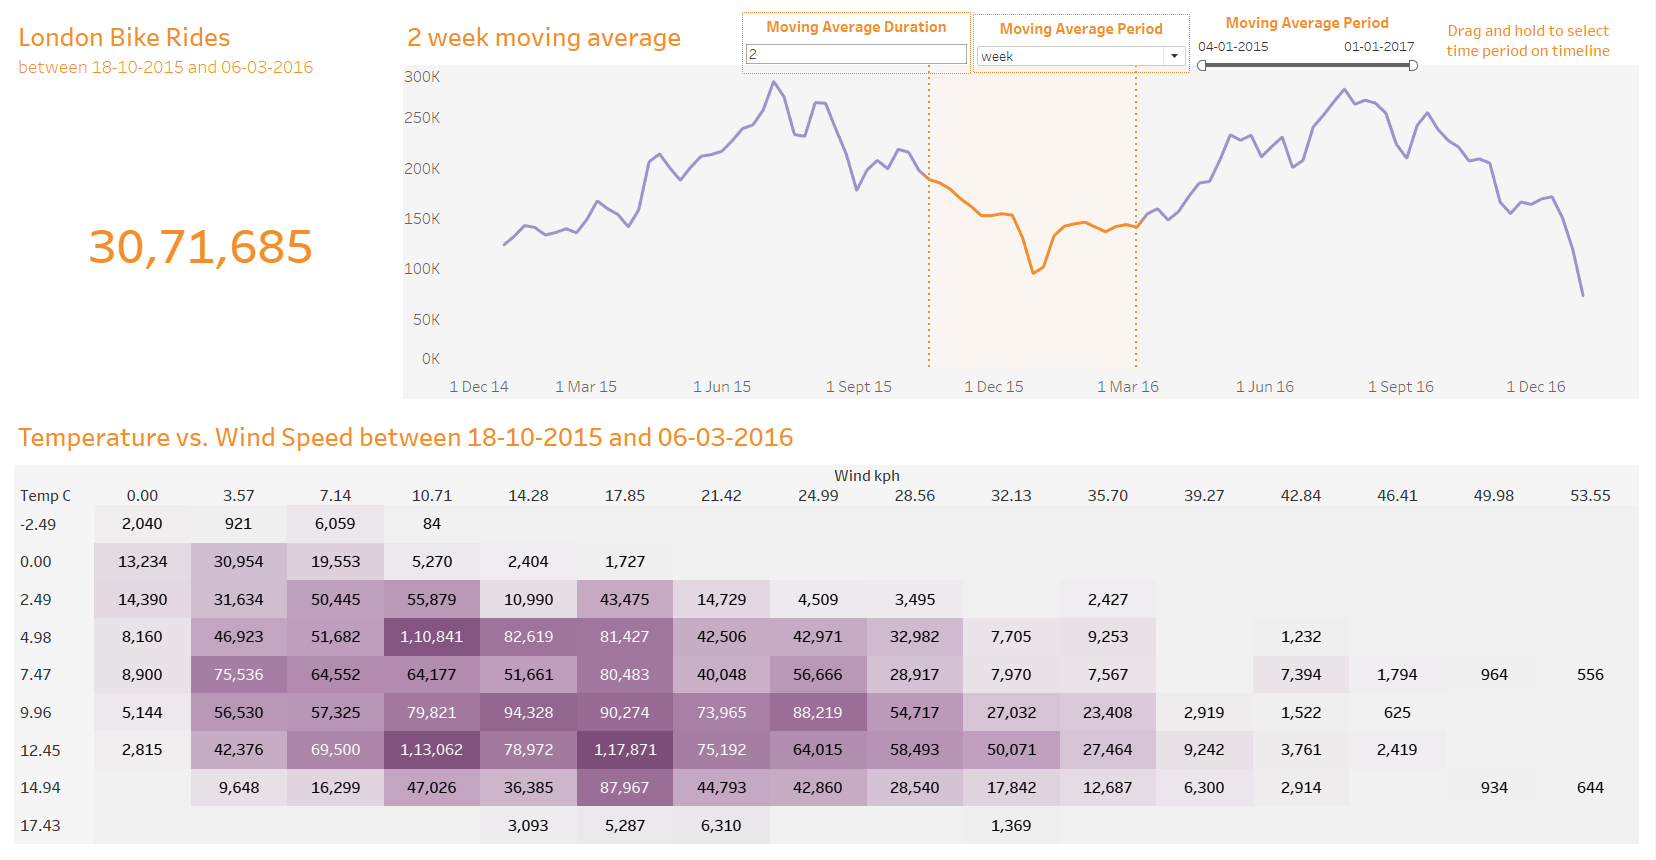

What the dashboard file says about the page in this screenshot:
{"tool":"tableau","page":{"name":"Dashboard 1","canvas":[1366,768],"ordinal":0},"visuals":[{"type":"worksheet","title":"TotalRides","mark":"Automatic","box":[8,8,320,356]},{"type":"worksheet","title":"MovingAverage","mark":"Automatic","rows":["Calculation1"],"cols":["Calculation_1283244475842359296"],"box":[328,8,1030,356]},{"type":"parameter","param":"[Parameters].[Parameter 2]","box":[613,12,189,55]},{"type":"filter","title":"MovingAverage","param":"[federated.1ptxyel0rewk3s1025q7z0q2fdgs].[none:Calculation_1283244475842359296:q","box":[985,12,189,61]},{"type":"parameter","param":"[Parameters].[Parameter 1]","box":[804,13,179,53]},{"type":"text","box":[1176,16,171,42]},{"type":"worksheet","title":"Heatmap","mark":"Automatic","rows":["temp real C (bin)"],"cols":["Wind Speed Kph (bin)"],"box":[8,364,1350,396]}]}

Visuals, with their boxes on the page's 1366x768 design canvas (x1, y1, x2, y2). These are canvas units, not pixel positions in the 1656x860 screenshot, which may show the page scaled, cropped or inside an application window:
"TotalRides" worksheet: box=[8, 8, 328, 364]
"MovingAverage" worksheet: box=[328, 8, 1358, 364]
parameter: box=[613, 12, 802, 67]
"MovingAverage" filter: box=[985, 12, 1174, 73]
parameter: box=[804, 13, 983, 66]
text: box=[1176, 16, 1347, 58]
"Heatmap" worksheet: box=[8, 364, 1358, 760]
